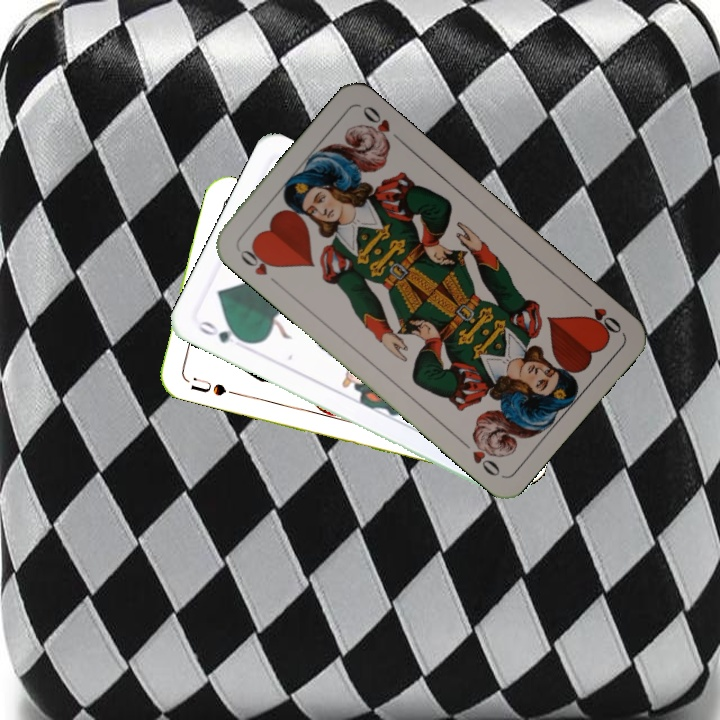GO: (194, 317, 250, 346)
HO: (236, 241, 283, 289), (576, 292, 624, 339)
SU: (186, 374, 229, 399)
